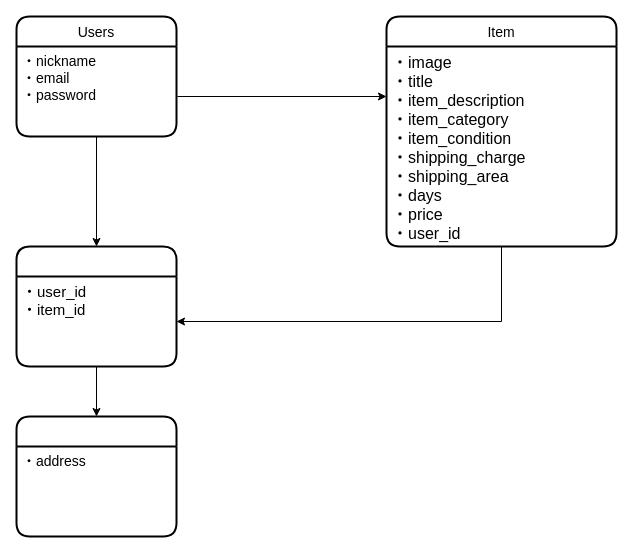
This 633x553 diagram has some shape labels left out. The box of each missing label's shape, as (x1, y1, x2, y2) in pixels:
Buy: (15, 245, 177, 367)
Shipping: (15, 415, 177, 537)
